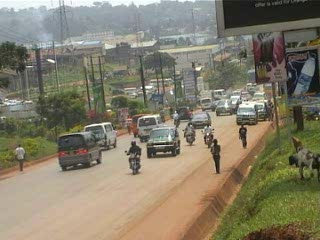Car: (144, 123, 181, 158), (188, 109, 213, 128), (213, 97, 233, 118), (172, 103, 192, 123), (208, 98, 219, 112)
Motorcycle: (122, 137, 144, 175), (199, 121, 216, 150), (180, 122, 198, 144), (171, 109, 180, 129)
